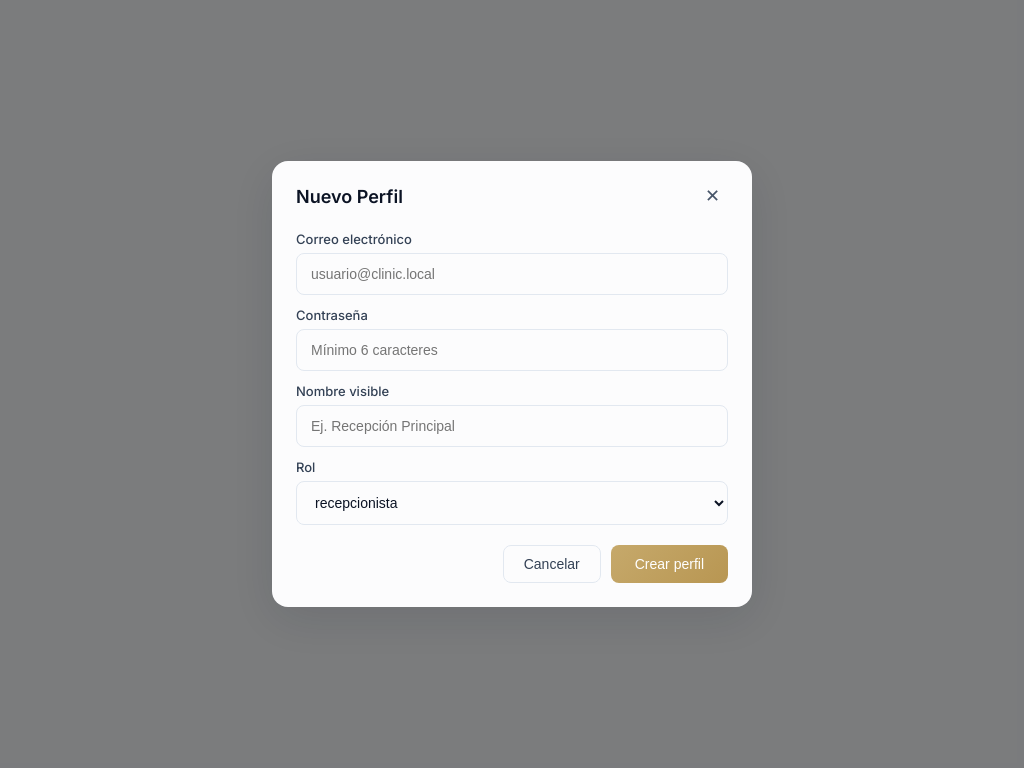
Scenario: ProfileFormModal › blocks submit and shows validation when doctor role is selected without specialty
Type "doctor@clinic.local" into the field labelled "Correo electrónico".
click(512, 274); type("doctor@clinic.local")  # box [296,253,728,295]
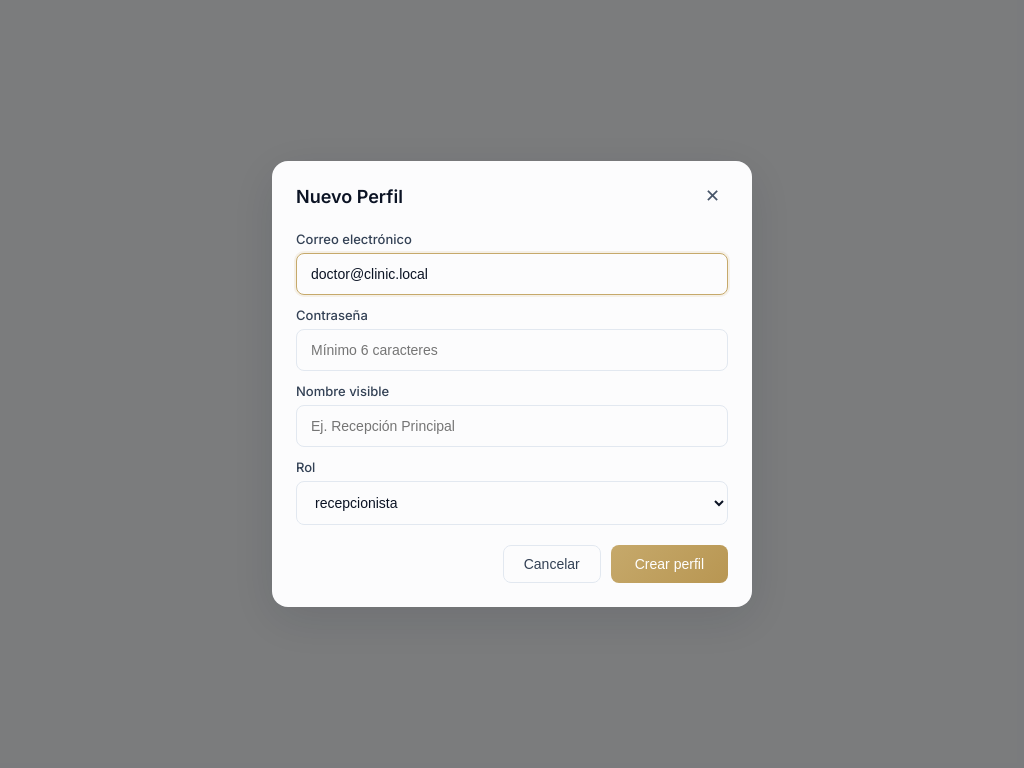
Type "Secure123" into the password field labelled "Contraseña".
click(512, 350); type("Secure123")  # box [296,329,728,371]
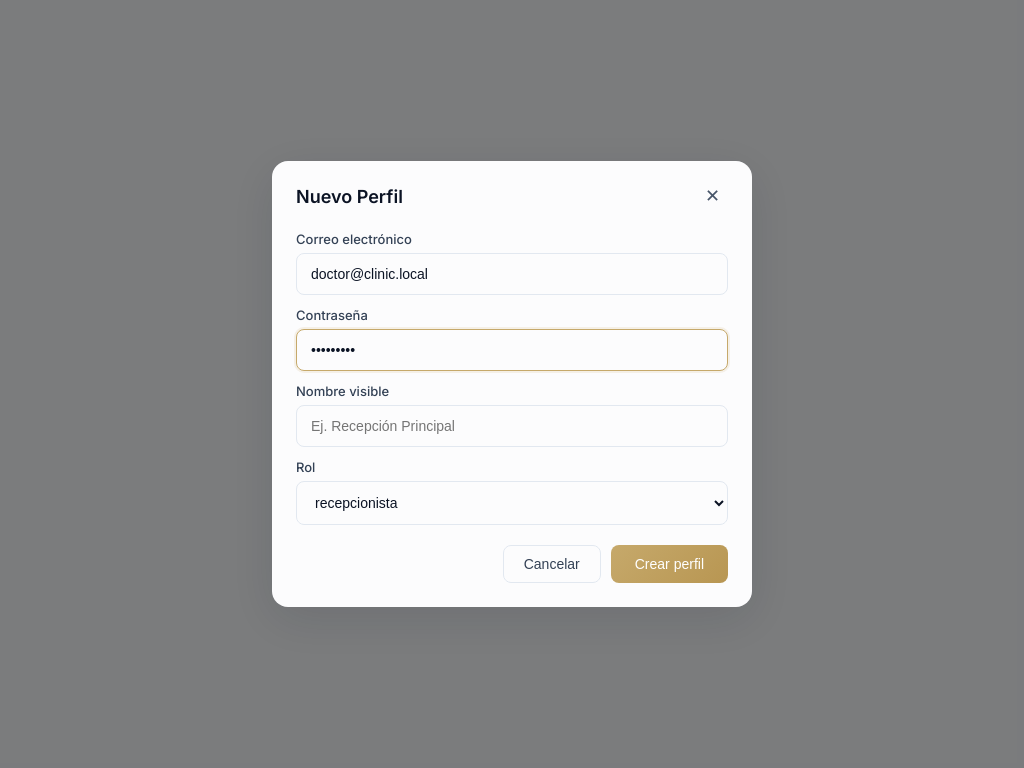
Type "Dra. Laura" into the field labelled "Nombre visible".
click(512, 426); type("Dra. Laura")  # box [296,405,728,447]
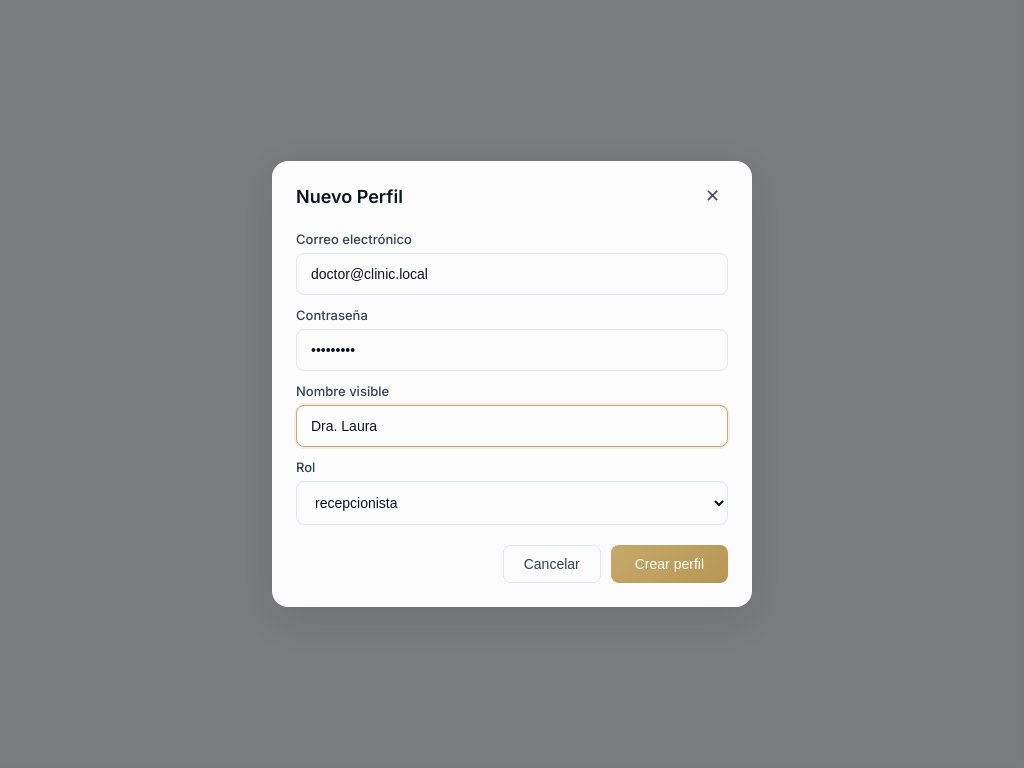
Select "doctor" in the dropdown labelled "Rol" at (512, 503), box [296,481,728,525]
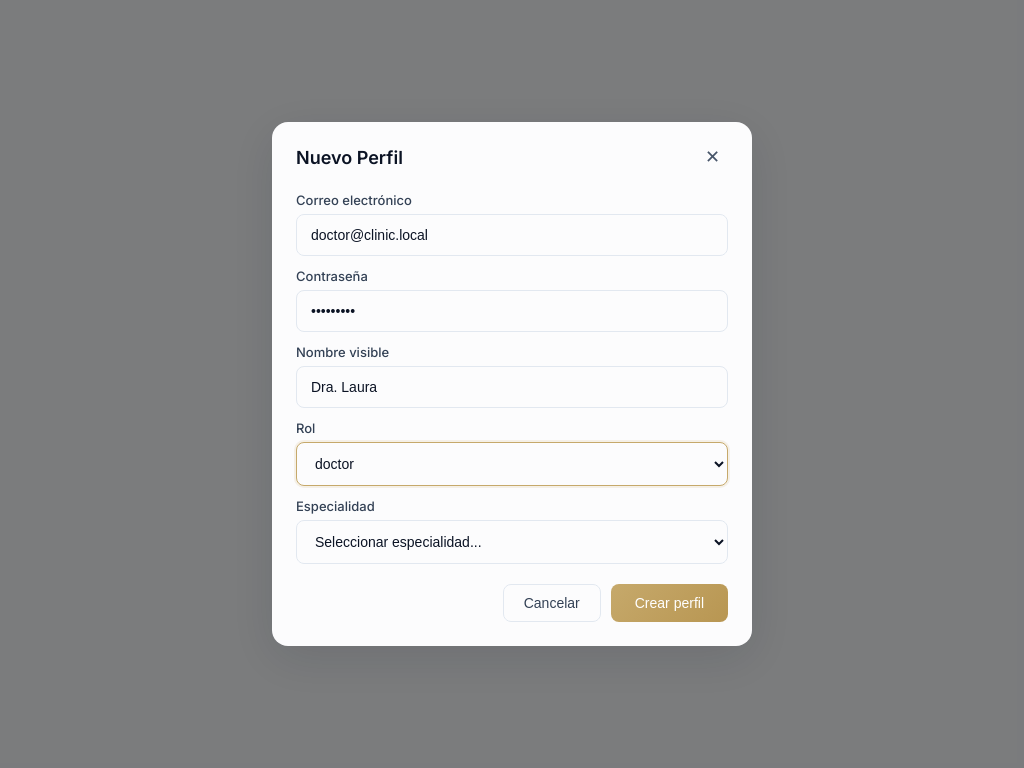
Click the button "Crear perfil".
click(669, 603)  # box [611,584,728,622]
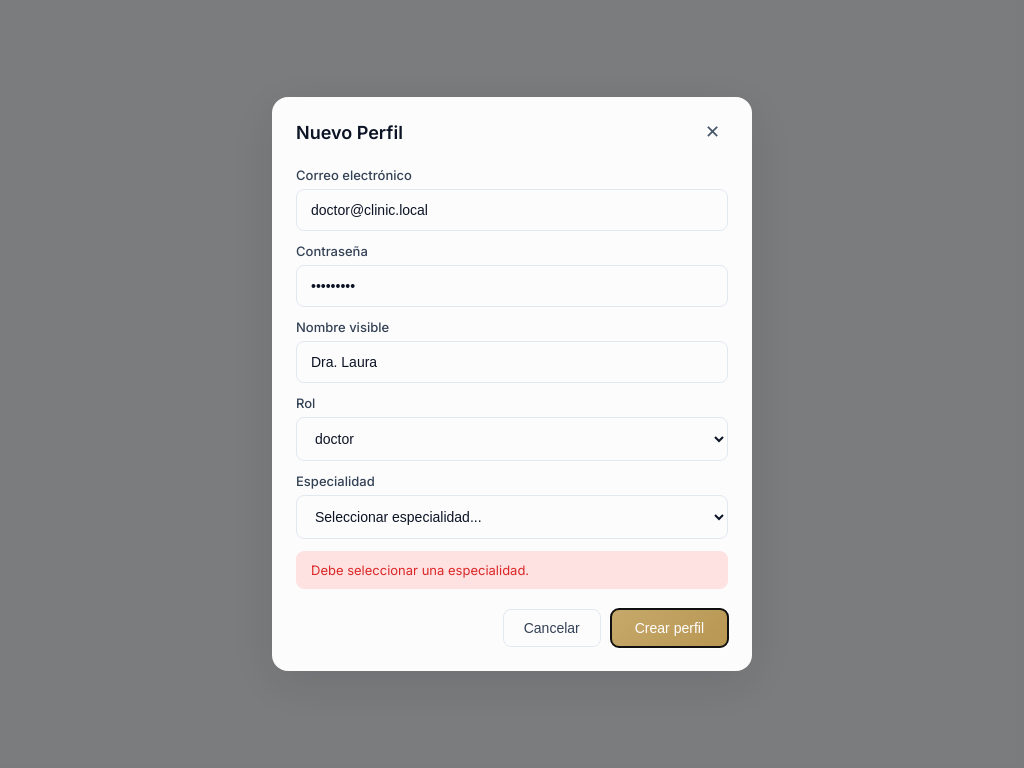
Now the message shows "Debe seleccionar una especialidad", box [311,562,529,578]
